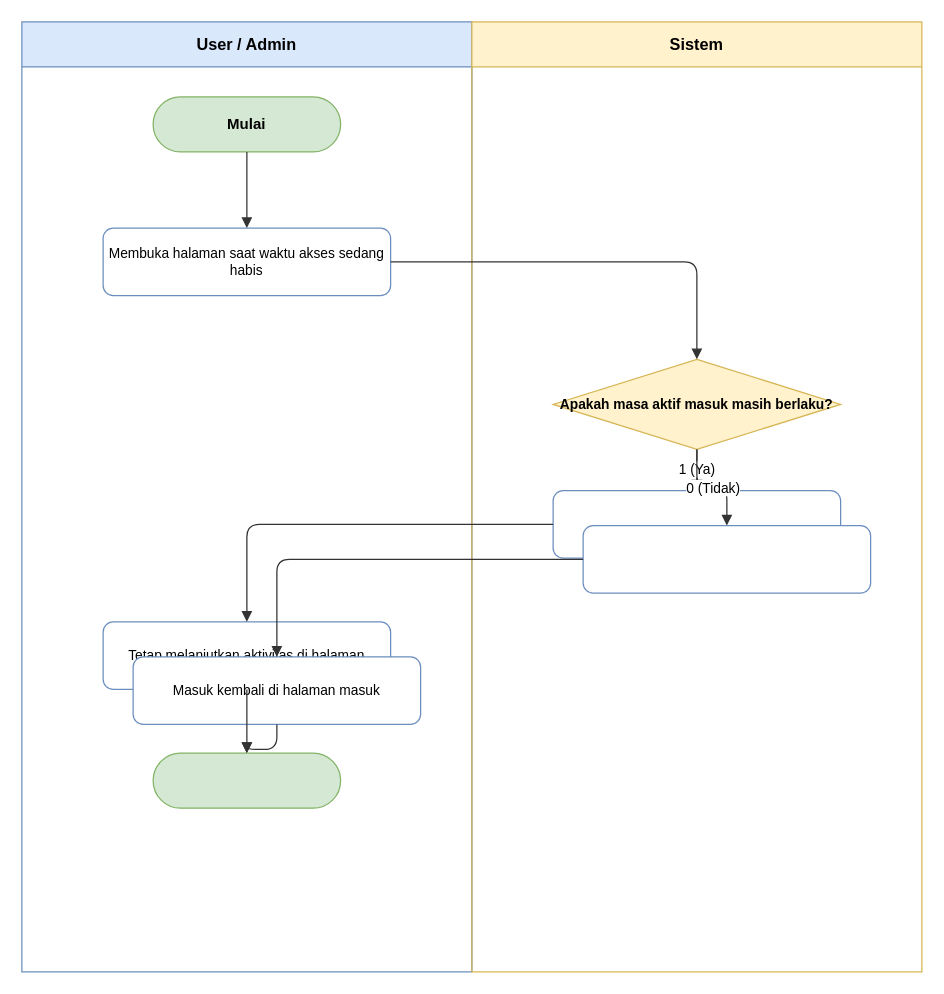
The diagram is 944 pixels wide and 994 high, and some of its shapes have lost their labels. Each missing label, with the box of its shape:
Perpanjang akses masuk secara otomatis: (552, 489, 841, 558)
Selesai: (152, 752, 341, 808)
Tampilkan pesan sesi telah berakhir: (582, 524, 871, 593)
